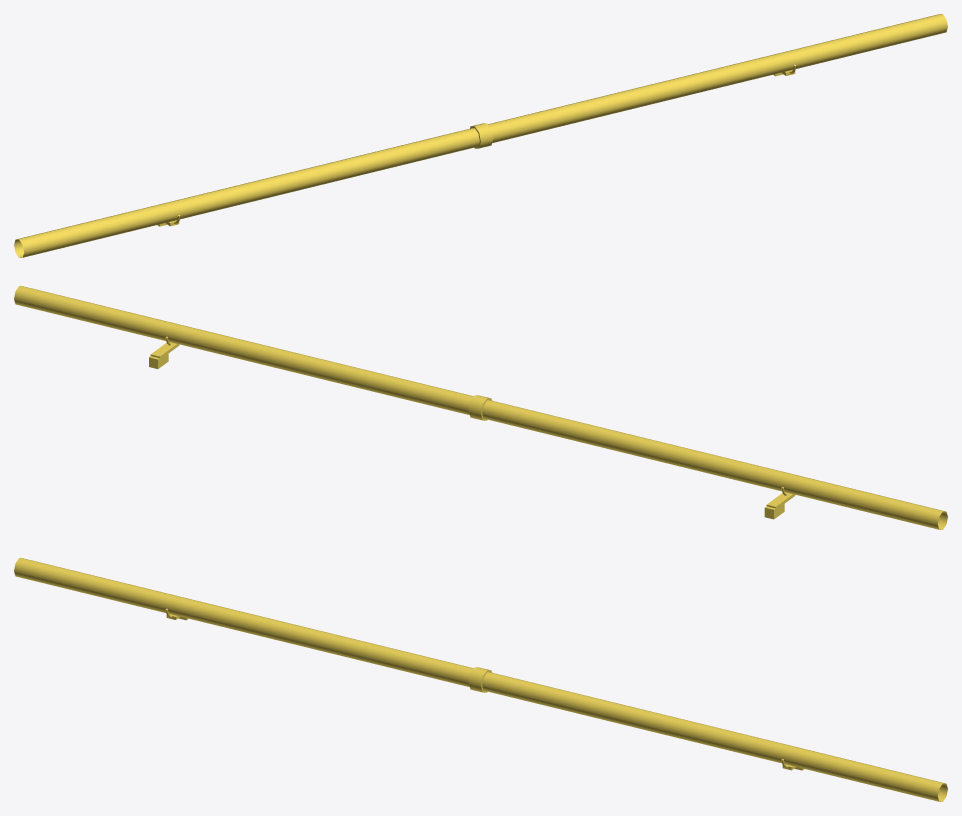
File: gas_pipe_straight_3m.glb
3 views of the same model, one above another, from view 1: azimuth 30°, elevation 25°; view 2: azimuth 150°, elevation 25°; view 3: azimuth 330°, elevation 25° (orthographic).
Visible parts, largest first — view 1: gas_pipe_straight_3m; view 2: gas_pipe_straight_3m; view 3: gas_pipe_straight_3m.
Boxes of the visible parts, <box> form: gas_pipe_straight_3m: <box>14,14,947,257</box>; gas_pipe_straight_3m: <box>14,286,947,529</box>; gas_pipe_straight_3m: <box>14,558,947,801</box>.
Bounding box in the file's own units: 3 × 0.0995 × 0.1489.
